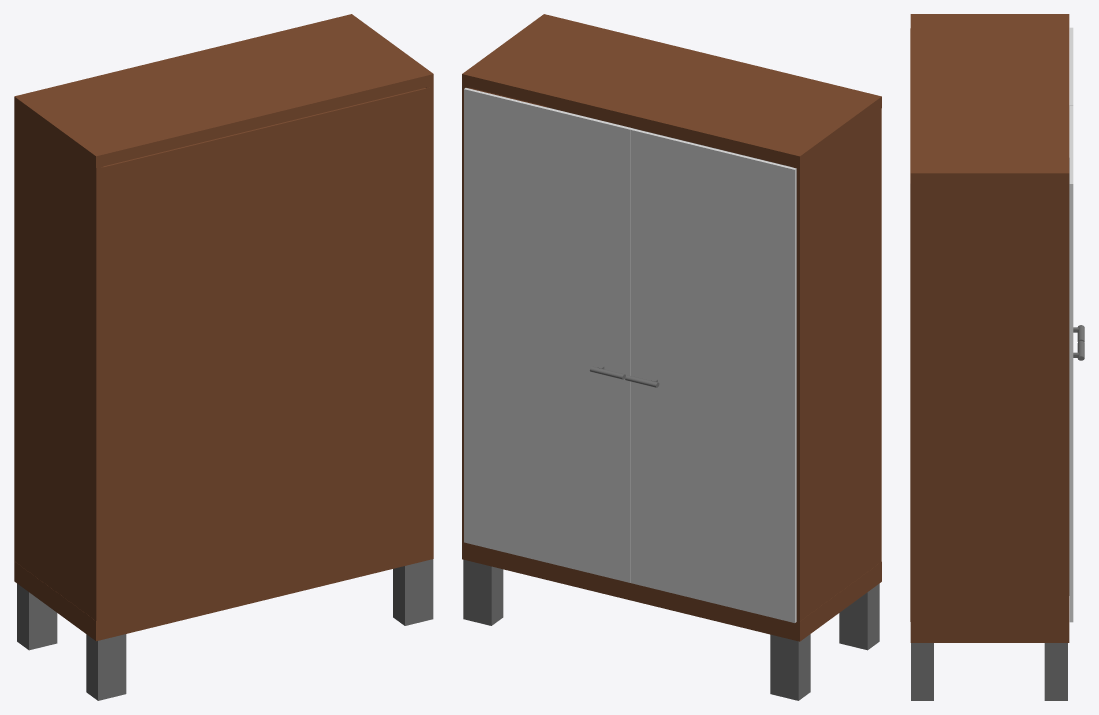
The model's file is Showcase.fbx.
3 views of the same model, side by side, from view 1: azimuth 30°, elevation 25°; view 2: azimuth 150°, elevation 25°; view 3: azimuth 270°, elevation 25° (orthographic). The views are drawn at different scales.
Visible parts, largest first — view 1: Cube.012, Cube.005, Cube.007, Cube, Cube.003, Cube.001, Cube.006, Cube.004; view 2: LeftDoor, RightDoor, Cube.005, Cube.007, Cube, Cube.004, Cube.002, Cube.003, Cube.006; view 3: Cube.006, Cube.007, Cube, LeftDoor, Cube.002, Cube.001, Cube.012, RightDoor.
Part boxes in pixels (x1,y1,x2,y2): Cube.012: [100, 87, 429, 620]; Cube.005: [14, 108, 103, 620]; Cube.007: [14, 14, 433, 167]; Cube: [14, 539, 433, 641]; Cube.003: [86, 634, 126, 700]; Cube.001: [393, 559, 433, 625]; Cube.006: [426, 86, 433, 539]; Cube.004: [17, 583, 57, 650]; LeftDoor: [464, 88, 632, 582]; RightDoor: [631, 128, 796, 622]; Cube.005: [792, 108, 881, 621]; Cube.007: [462, 14, 881, 168]; Cube: [462, 539, 881, 641]; Cube.004: [770, 634, 810, 700]; Cube.002: [463, 559, 503, 625]; Cube.003: [839, 583, 879, 650]; Cube.006: [462, 86, 546, 539]; Cube.006: [910, 185, 1069, 623]; Cube.007: [910, 14, 1069, 184]; Cube: [910, 623, 1069, 642]; LeftDoor: [1069, 105, 1073, 622]; Cube.002: [1044, 643, 1067, 700]; Cube.001: [911, 643, 933, 700]; Cube.012: [910, 28, 910, 621]; RightDoor: [1069, 27, 1073, 105].
Size of the model in its own units: 983 by 1516 by 454.
